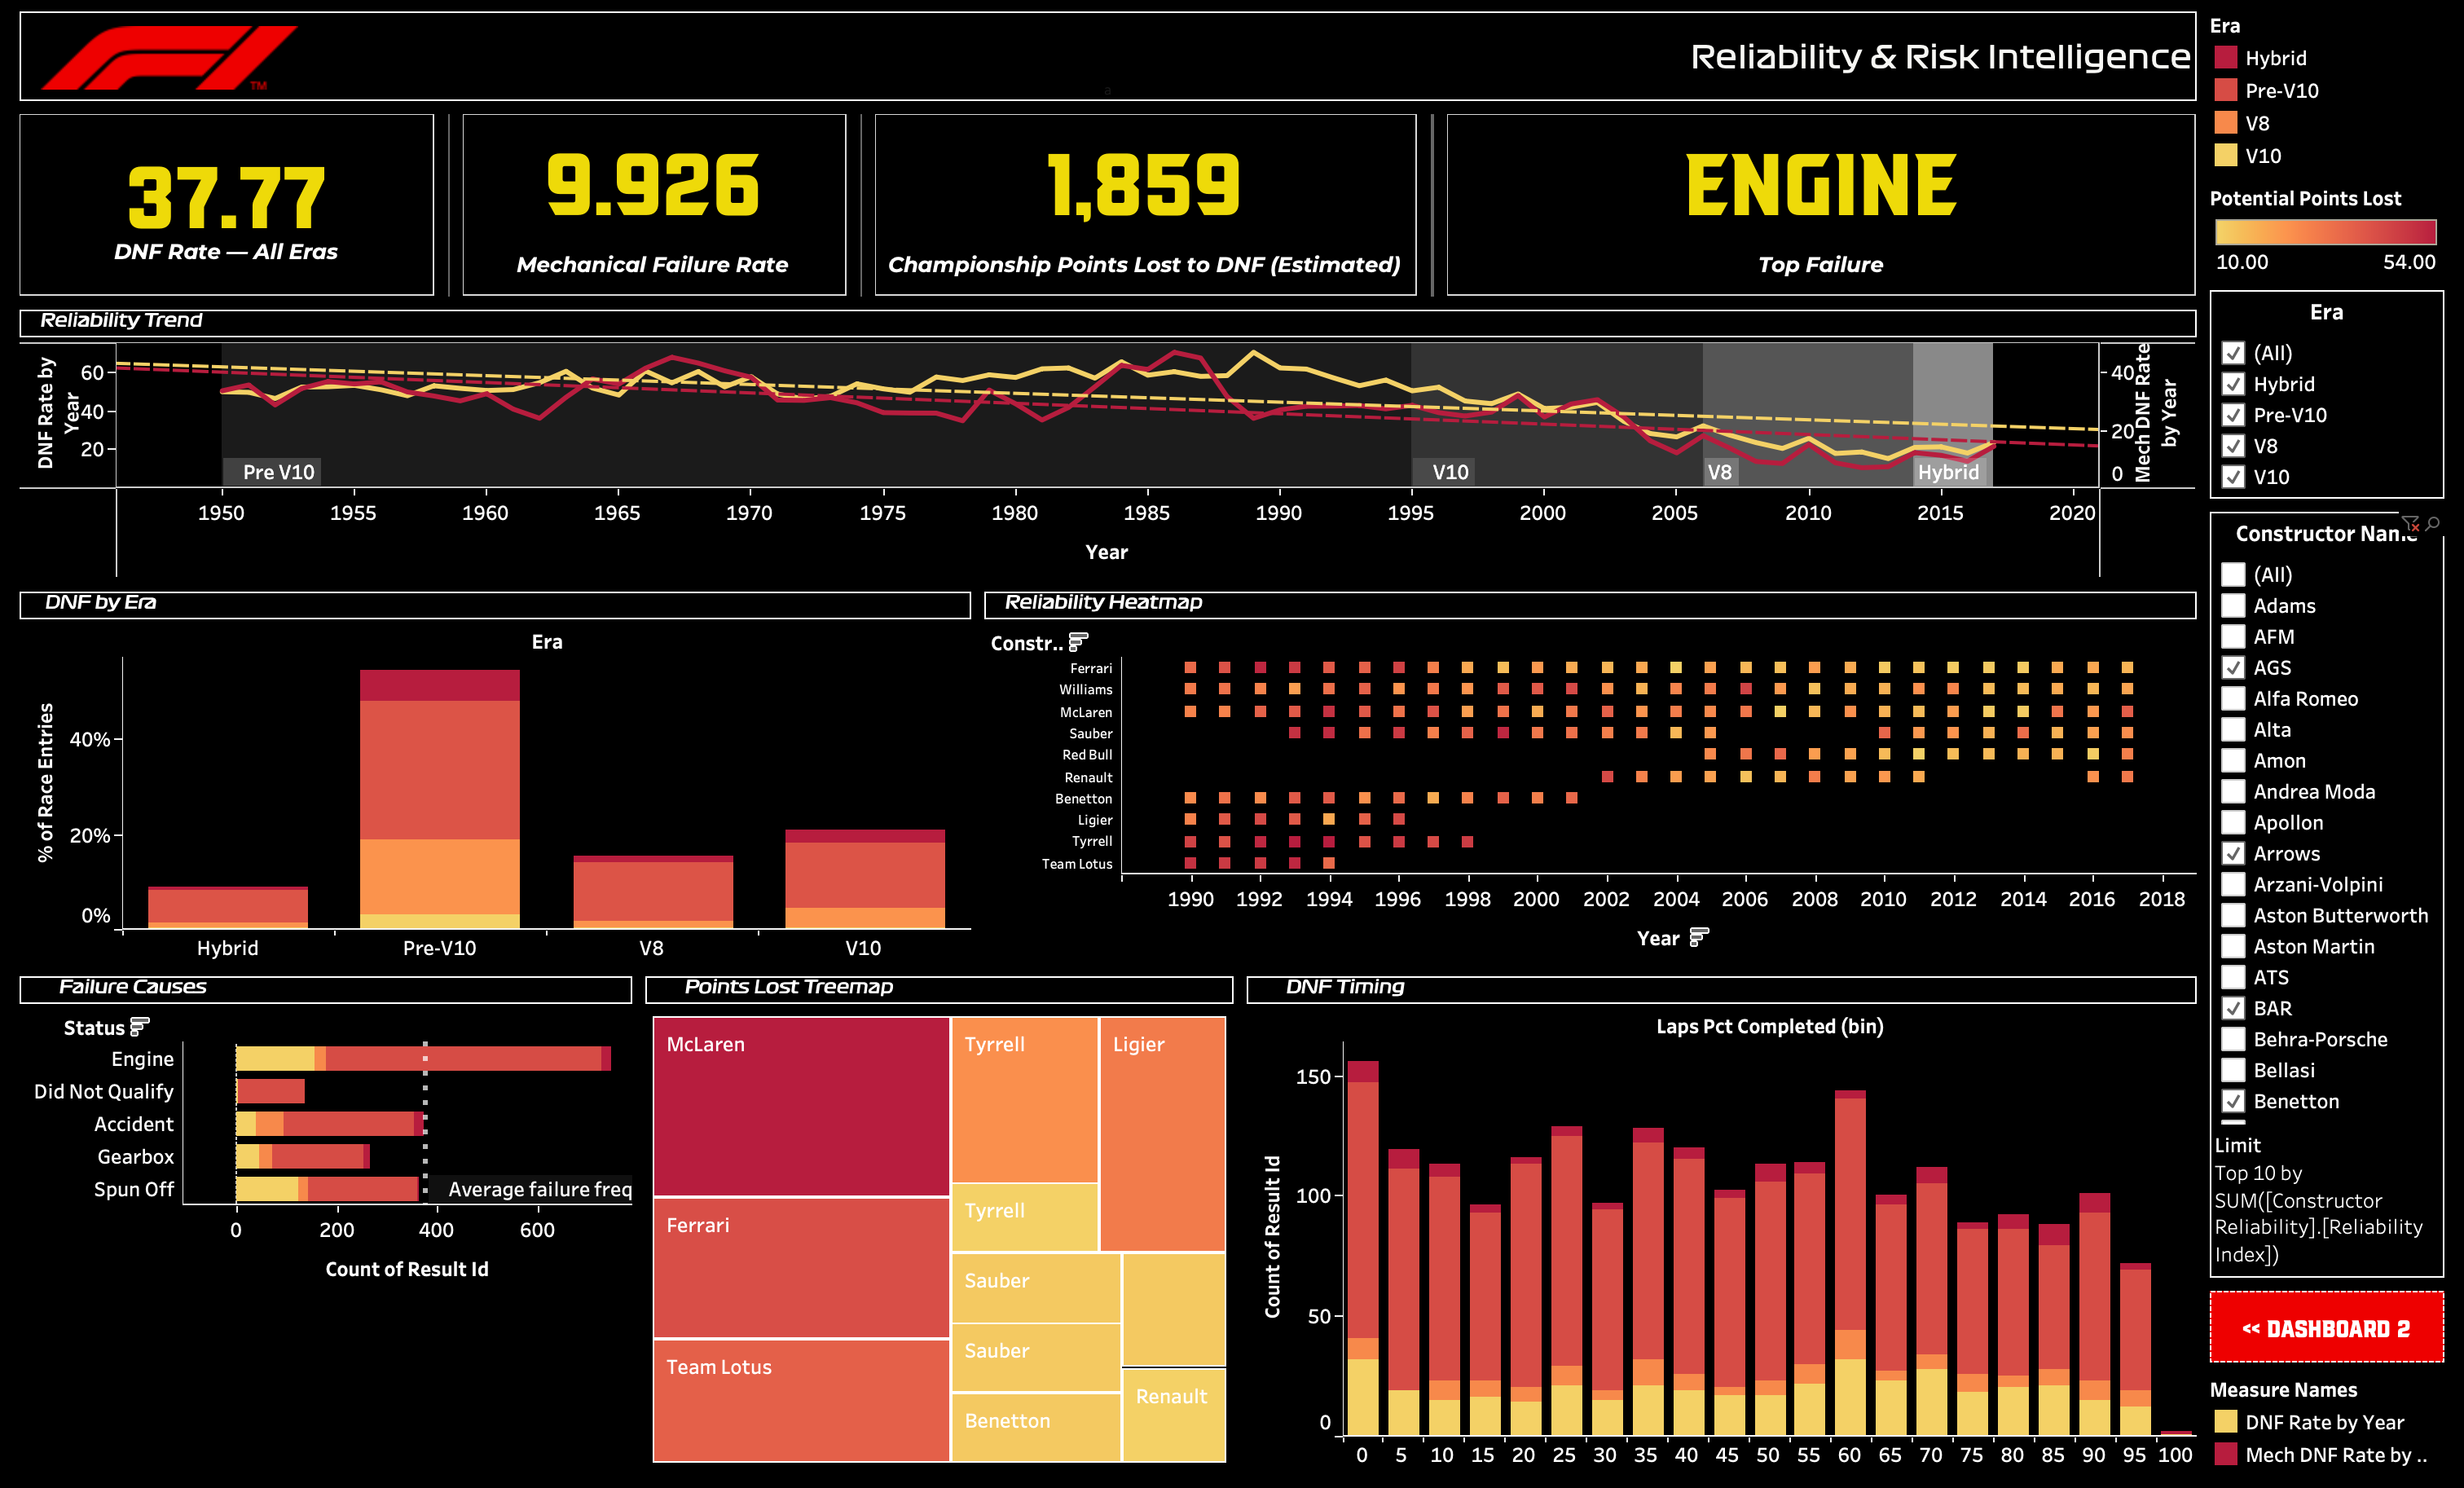

The dashboard page shown, as its layout file describes it:
{"tool":"tableau","page":{"name":"Dashboard 3- Reliability & Rish Intelligence (2)","canvas":[1000,1000],"units":"permille","ordinal":1},"visuals":[{"type":"image","param":"Image/FWONK_BIG.png","box":[13.8,1.2,109.9,86.9]},{"type":"title","box":[6.2,9.3,870.9,73.5]},{"type":"legend","title":"    Failure Causes","param":"[federated.0g2qg6f19dtuyb17riu551oa1ovn (copy)].[none:era:nk]","box":[877,9.3,116.8,123.7]},{"type":"worksheet","title":" KPI - Overall DNF","mark":"Automatic","box":[6.2,82.8,202.2,140]},{"type":"blank","box":[208.3,82.8,6.9,140]},{"type":"worksheet","title":" KPI - Mech DNF","mark":"Automatic","box":[215.2,82.8,187.6,140]},{"type":"blank","box":[402.8,82.8,6.9,140]},{"type":"worksheet","title":" KPI - Pts Lost","mark":"Automatic","box":[409.7,82.8,262.1,140]},{"type":"blank","box":[671.8,82.8,7.7,140]},{"type":"worksheet","title":"KPI - Top Failure","mark":"Automatic","box":[679.5,82.8,197.5,140]},{"type":"legend","title":"    Points Lost Treemap","param":"[federated.0g2qg6f19dtuyb17riu551oa1ovn (copy)].[sum:potential_points_lost:qk]","box":[877,133,116.8,75.8]},{"type":"filter","title":" DNF by Era ","param":"[federated.0ag0pla009q59d1f65p4l1sclavo].[none:era:nk]","box":[877,208.8,116.8,158.7]},{"type":"worksheet","title":"Reliability Trend","mark":"Automatic","rows":["Calculation_3719780900548620","Calculation_3719780900642829"],"cols":["year"],"box":[6.2,222.9,870.9,201.9]},{"type":"filter","title":"Reliability Heatmap","param":"[federated.0l0w73x1jm0a7a14aj96y0pblotd].[none:constructor_name:nk]","box":[877,367.5,116.8,485.4]},{"type":"worksheet","title":" DNF by Era ","mark":"Automatic","rows":["resultId"],"cols":["era"],"box":[6.2,424.7,455,275.4]},{"type":"worksheet","title":"Reliability Heatmap","mark":"Square","rows":["constructor_name"],"cols":["year"],"box":[461.2,424.7,415.8,275.4]},{"type":"worksheet","title":"    Failure Causes","mark":"Automatic","rows":["status"],"cols":["resultId"],"box":[6.2,700.1,295.2,290.6]},{"type":"worksheet","title":"    Points Lost Treemap","mark":"Square","box":[301.3,700.1,283.6,290.6]},{"type":"worksheet","title":"    DNF Timing","mark":"Automatic","rows":["resultId"],"cols":["Laps Pct Completed (bin)"],"box":[584.9,700.1,291.9,290.6]},{"type":"dashboard-object","box":[877,853,116.8,60.7]},{"type":"legend","title":"Reliability Trend","param":"[federated.0ag0pla009q59d1f65p4l1sclavo].[:Measure Names]","box":[877,913.7,116.8,77]}]}

Visuals, with their boxes on the dashboard's canvas, which has no fixed pixel size, in thousandths of its width and height (x1, y1, x2, y2). These are canvas units, not pixel positions in the 2464x1488 screenshot, which may show the page scaled, cropped or inside an application window:
image: <region>14, 1, 124, 88</region>
title: <region>6, 9, 877, 83</region>
"    Failure Causes" legend: <region>877, 9, 994, 133</region>
" KPI - Overall DNF" worksheet: <region>6, 83, 208, 223</region>
blank: <region>208, 83, 215, 223</region>
" KPI - Mech DNF" worksheet: <region>215, 83, 403, 223</region>
blank: <region>403, 83, 410, 223</region>
" KPI - Pts Lost" worksheet: <region>410, 83, 672, 223</region>
blank: <region>672, 83, 680, 223</region>
"KPI - Top Failure" worksheet: <region>680, 83, 877, 223</region>
"    Points Lost Treemap" legend: <region>877, 133, 994, 209</region>
" DNF by Era " filter: <region>877, 209, 994, 368</region>
"Reliability Trend" worksheet: <region>6, 223, 877, 425</region>
"Reliability Heatmap" filter: <region>877, 368, 994, 853</region>
" DNF by Era " worksheet: <region>6, 425, 461, 700</region>
"Reliability Heatmap" worksheet (Square marks): <region>461, 425, 877, 700</region>
"    Failure Causes" worksheet: <region>6, 700, 301, 991</region>
"    Points Lost Treemap" worksheet (Square marks): <region>301, 700, 585, 991</region>
"    DNF Timing" worksheet: <region>585, 700, 877, 991</region>
dashboard-object: <region>877, 853, 994, 914</region>
"Reliability Trend" legend: <region>877, 914, 994, 991</region>
